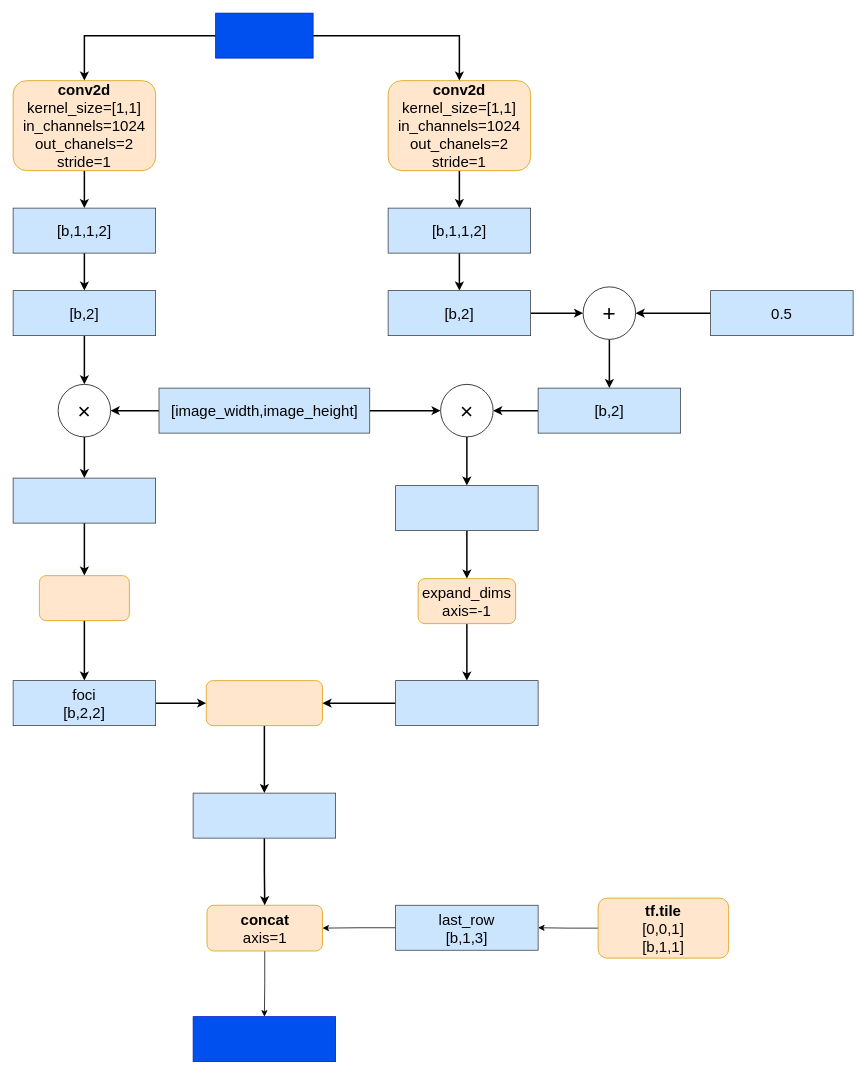
The diagram is 866 pixels wide and 1075 high, and some of its shapes have lost their labels. The shapes that lost their labels are listed below. From the top down, each one's box as (x1, y1, x2, y2) in pixels, then its label:
(215, 12, 313, 58): bottleneck [b,1,1,1024]
(12, 477, 156, 523): focal_lengths [b,2]
(395, 485, 538, 531): offsets [b,2]
(39, 575, 129, 621): diag
(206, 680, 322, 726): concat axis=2
(395, 680, 538, 726): [b,2,1]
(192, 792, 336, 838): [b,2,3]
(192, 1016, 336, 1062): intrinsic_mat [b,3,3]
